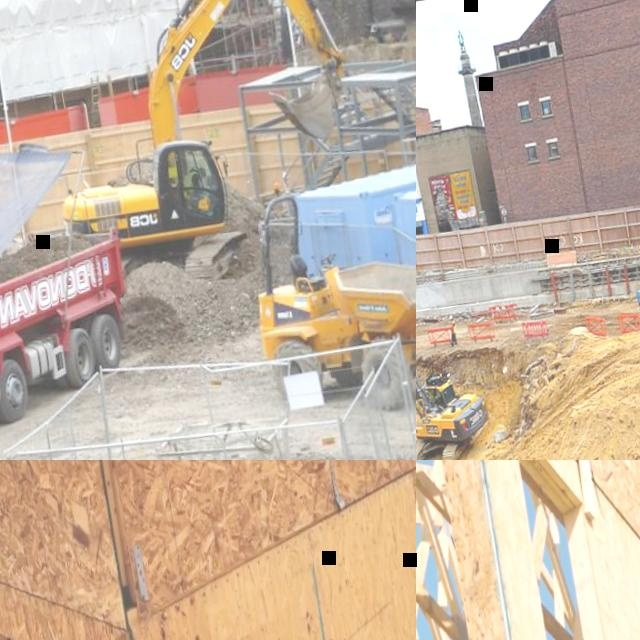Hardhat: (450, 314, 454, 319)
NO-Hardhat: (199, 165, 209, 177)
Person: (179, 164, 214, 207), (448, 314, 460, 347)
Safety Vest: (181, 170, 202, 197), (451, 319, 458, 335)
machinery: (15, 0, 381, 305), (0, 132, 149, 460), (240, 168, 416, 427), (416, 336, 499, 460)
